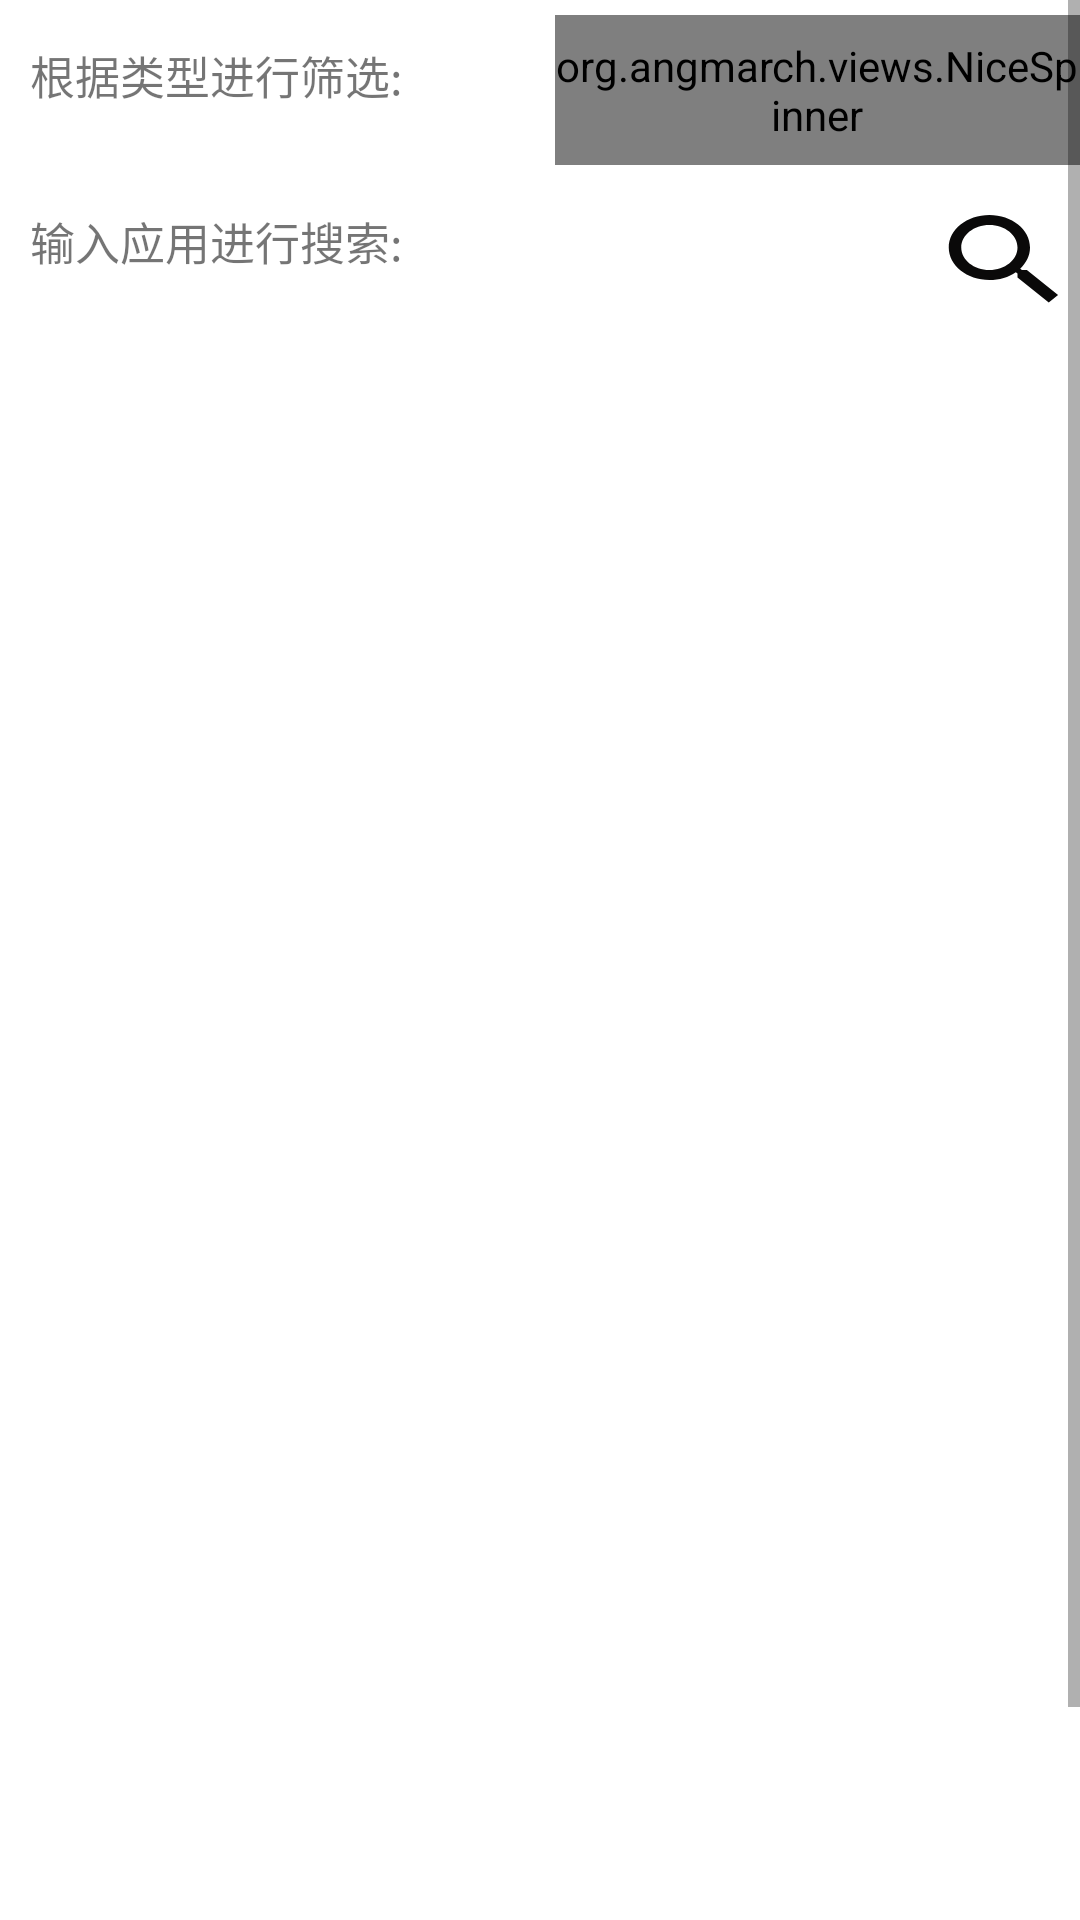

Where icons sit on this 1080×1920 app screen, as (x1, y1, x2, y2):
search: (948, 215, 1058, 303)
